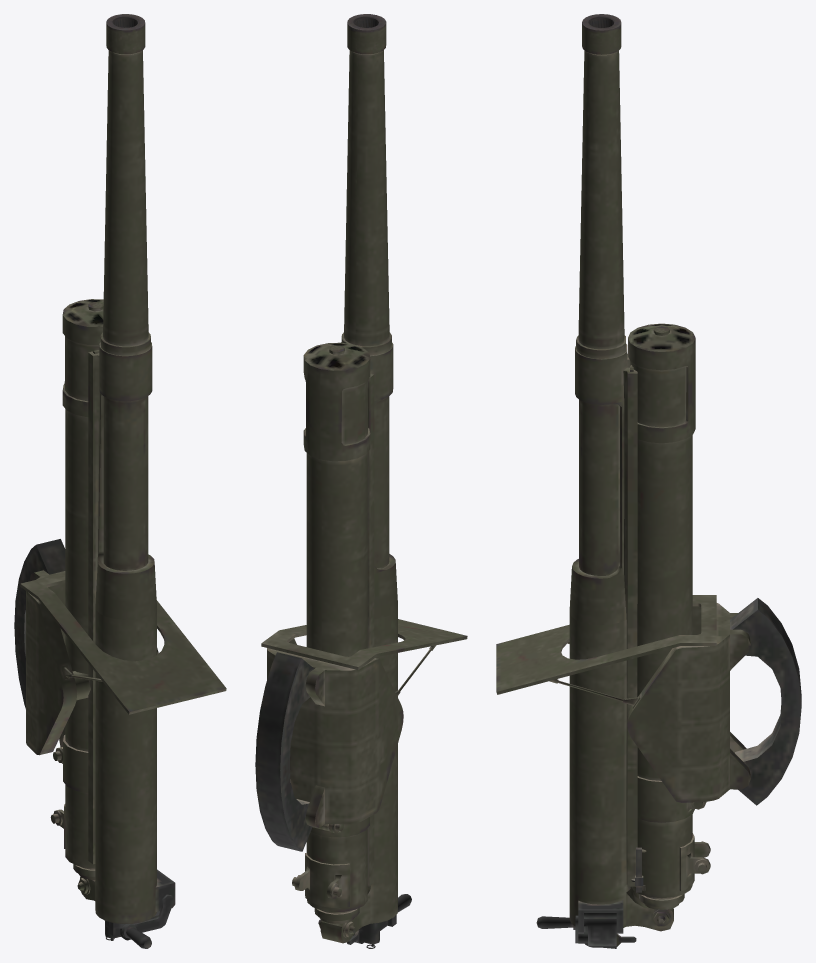
The model's file is Gun_03.glb.
3 views of the same model, side by side, from view 1: azimuth 30°, elevation 25°; view 2: azimuth 150°, elevation 25°; view 3: azimuth 270°, elevation 25° (orthographic).
Parts seen in each view (by area): view 1: set_0_group_0; view 2: set_0_group_0; view 3: set_0_group_0.
Boxes of the visible parts, x1,y1,x2,y2 form: set_0_group_0: (14,14,226,948); set_0_group_0: (255,14,467,948); set_0_group_0: (496,14,801,948).
Bounding box in the file's own units: 0.3545 × 3.15 × 0.938.
Materials: 1 (1 with a texture image).
